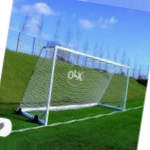goals: (15, 44, 132, 126)
